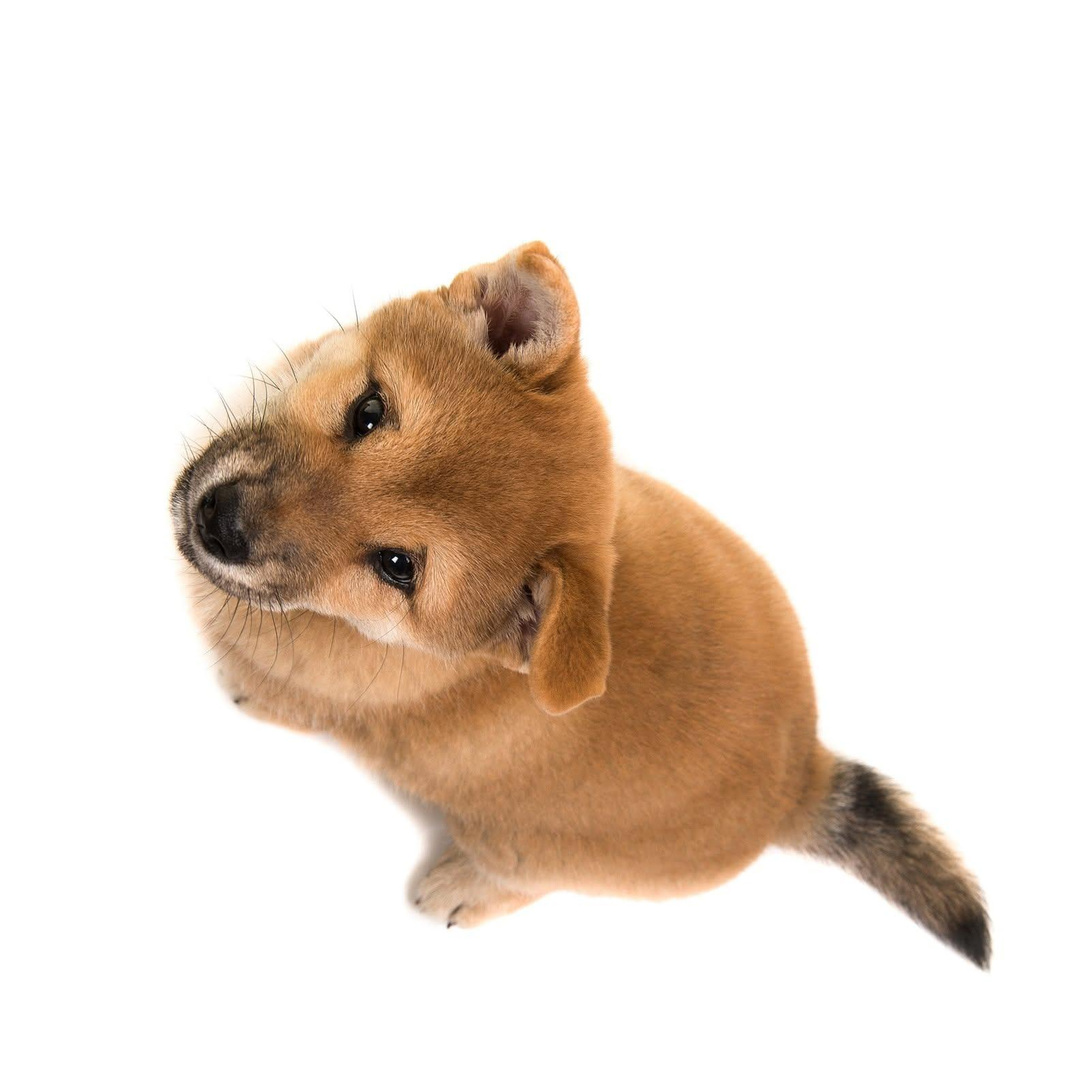puppy-dog: (163, 233, 1001, 973)
